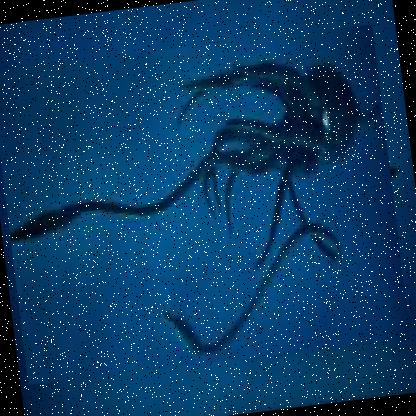colossal_squid: (0, 23, 411, 386)
